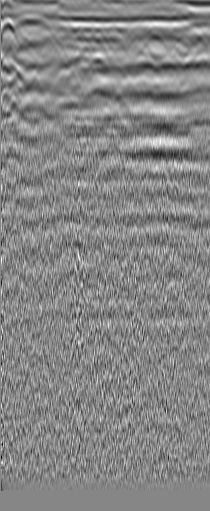오수: (14, 11, 59, 41)
우수: (167, 35, 187, 55)
